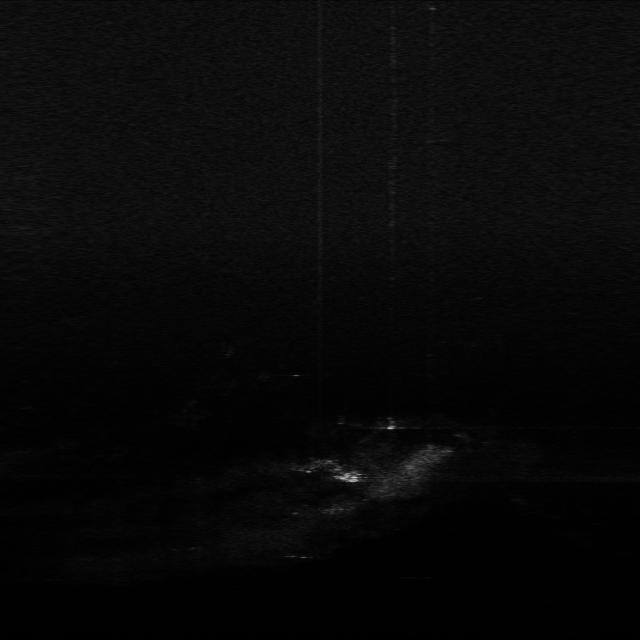rov: (334, 467, 364, 485)
